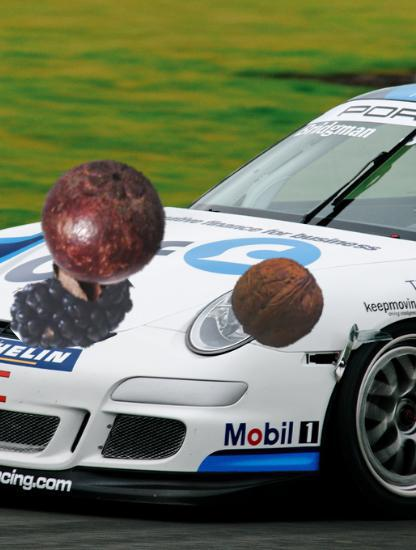Mangostan: (27, 155, 171, 299)
Mulberry: (11, 246, 133, 368)
Walnut: (231, 256, 324, 349)
